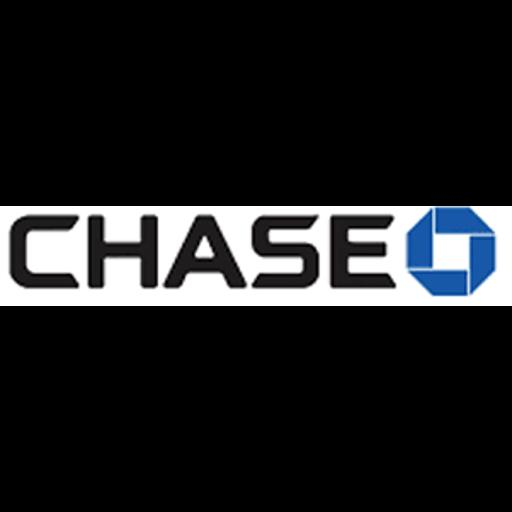Chase Personal Banking: (0, 206, 512, 306)
